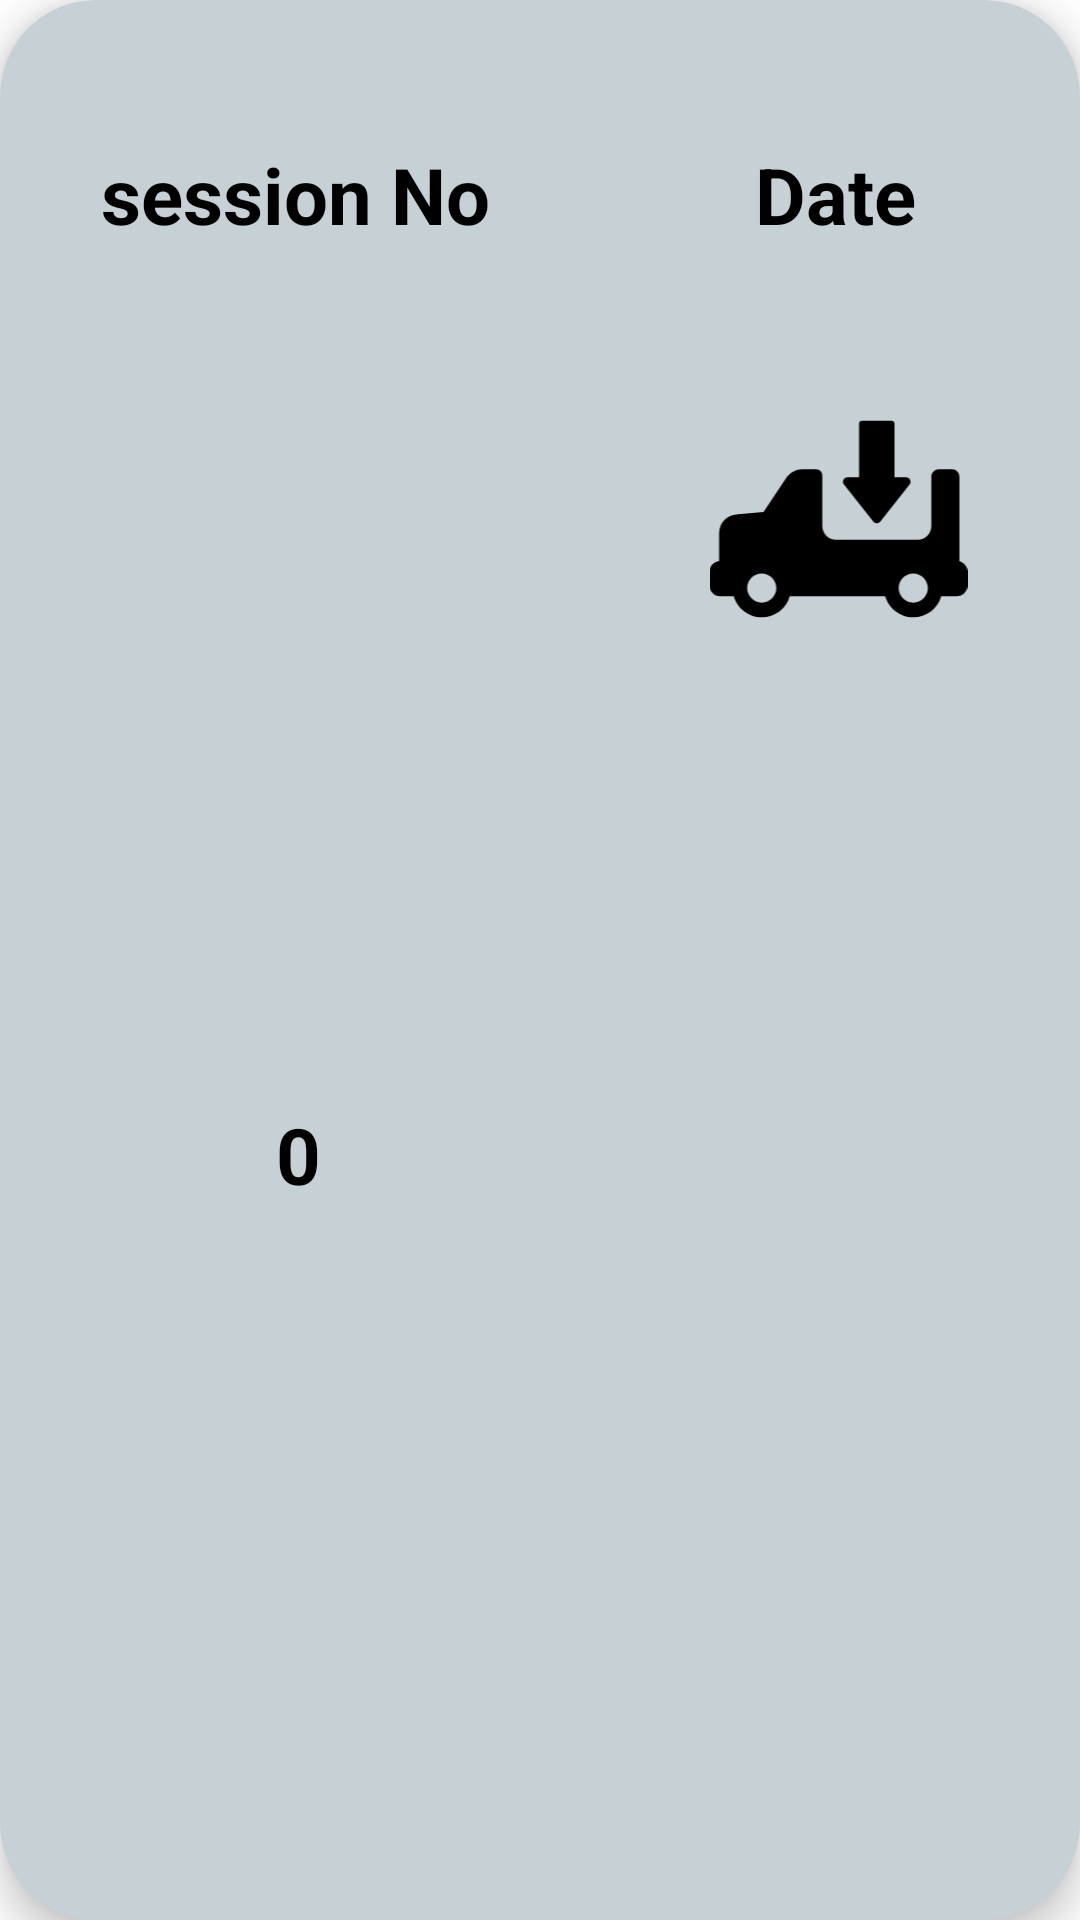

Named icons in this screenshot (1080w x 1920h) and their centers, (x,y):
unloading/loading image: (839,519)
